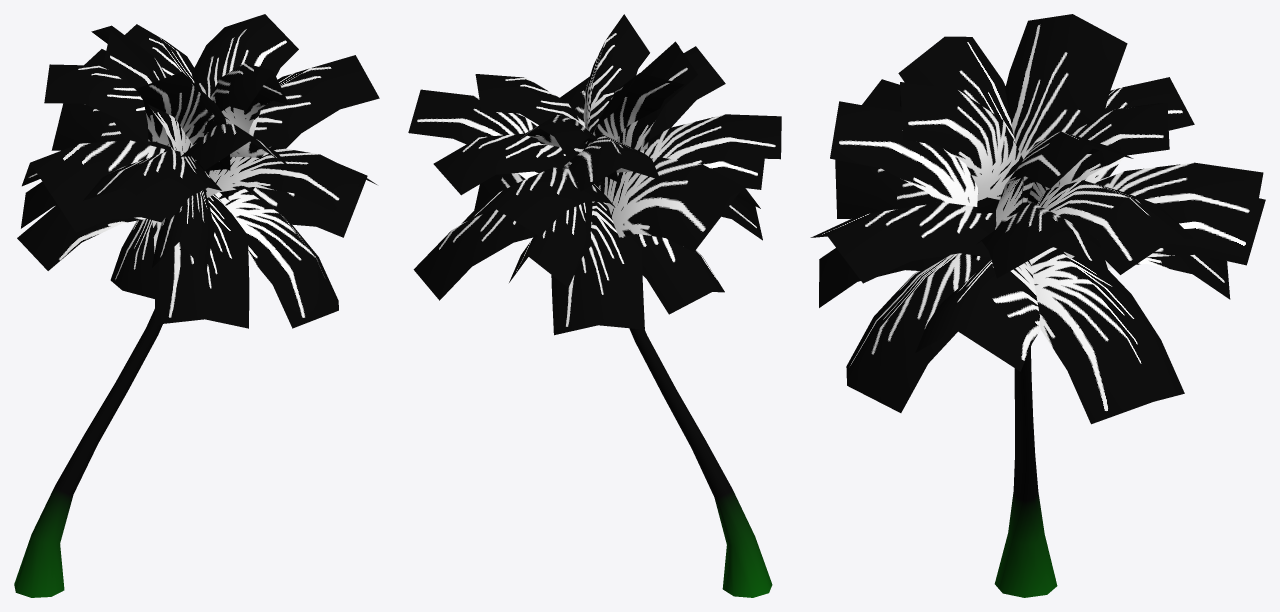
File: P_CoconutPalmB01.obj
3 views of the same model, side by side, from view 1: azimuth 30°, elevation 25°; view 2: azimuth 150°, elevation 25°; view 3: azimuth 270°, elevation 25° (orthographic). The views are drawn at different scales.
Bounding box in the file's own units: 7.01 × 10.02 × 6.62.
